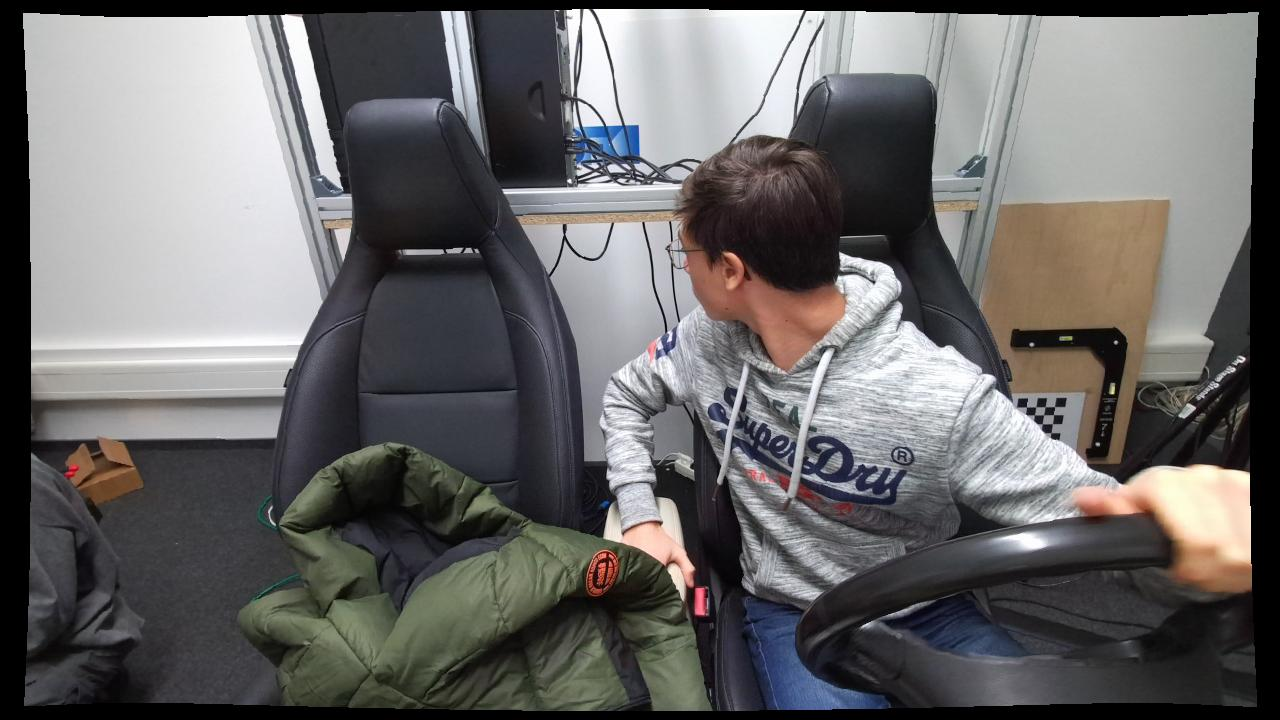Distracted: (613, 128, 1020, 710)
